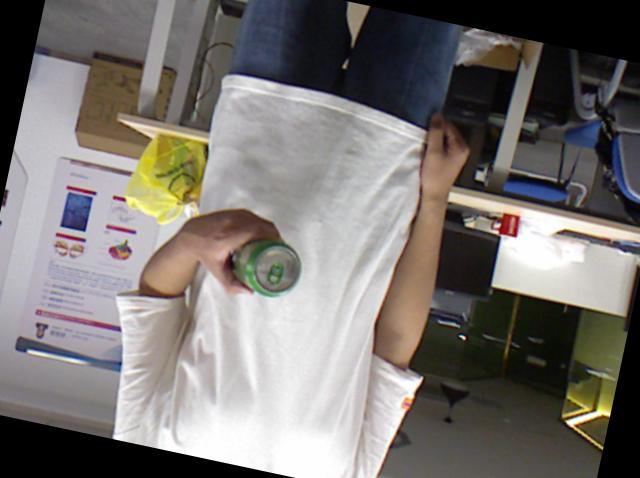metal: (230, 240, 300, 296)
